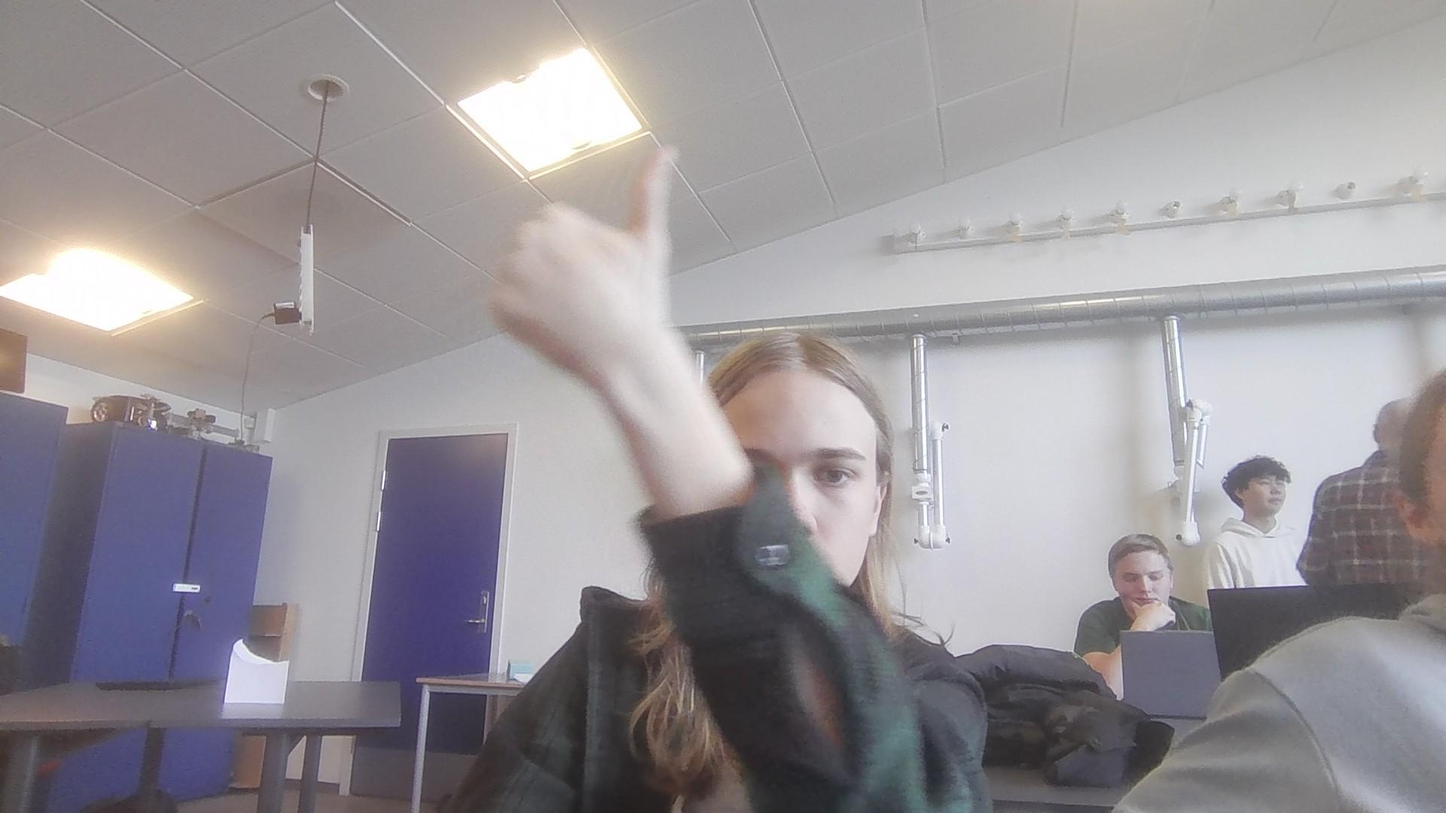thumbs up: (448, 138, 719, 390)
